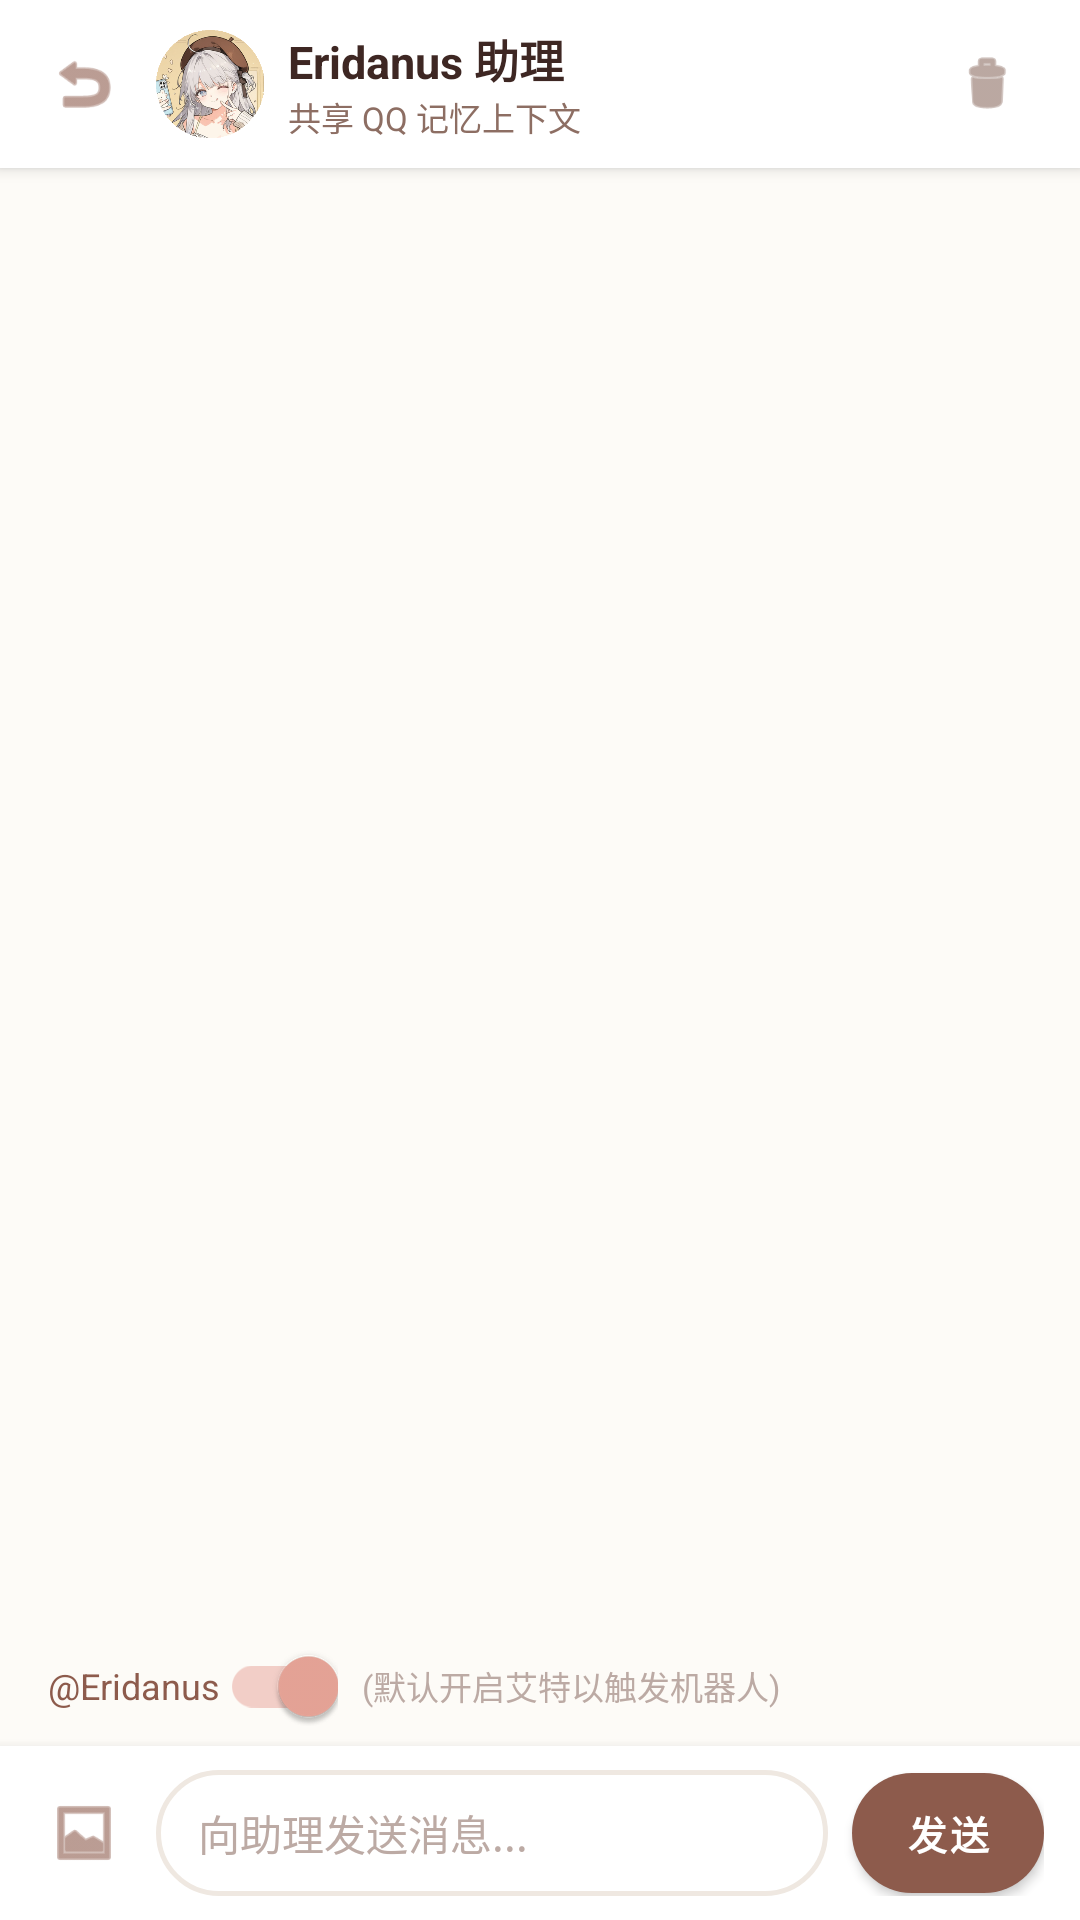

Screen size 1080*1920. Icon name, then its center in pixels as (x=x, y=y):
Back: (x=85, y=84)
Clear: (x=987, y=83)
Select Image: (x=84, y=1833)
